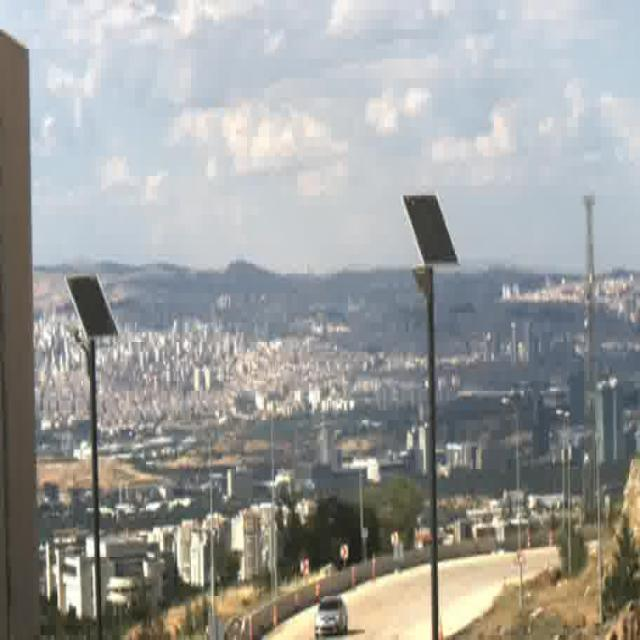Car: (315, 597, 348, 639)
